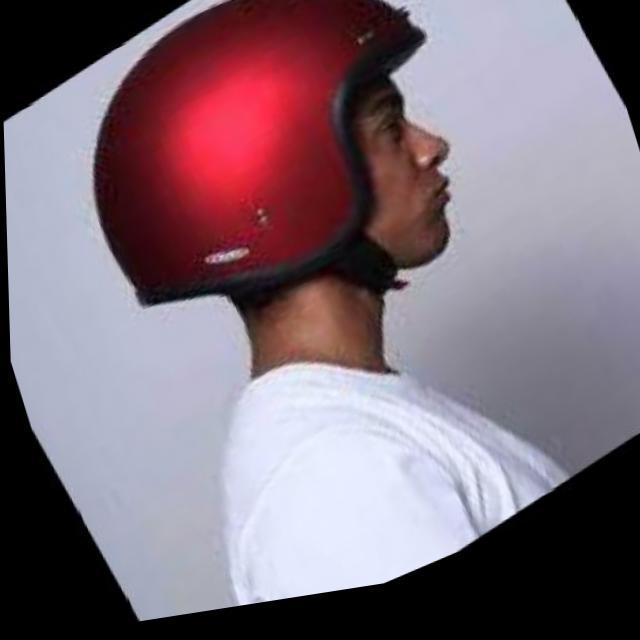Helmet: (89, 0, 462, 308)
